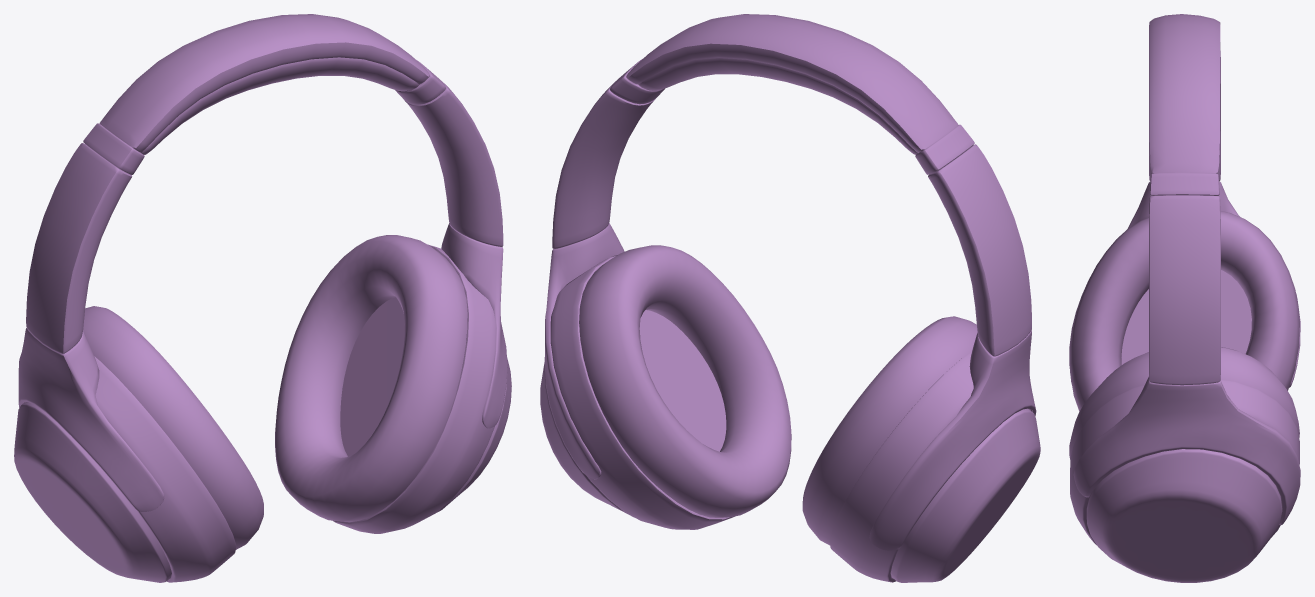
Rendered from ThreejsScene (4).glb.
The picture shows the model from 3 angles, left to right: view 1: azimuth 30°, elevation 25°; view 2: azimuth 150°, elevation 25°; view 3: azimuth 270°, elevation 25°; orthographic projection. The views are drawn at different scales.
Visible parts, largest first — view 1: уховнешнее001; view 2: уховнешнее001; view 3: уховнешнее001.
Boxes of the visible parts, x1,y1,x2,y2 form: уховнешнее001: (14, 14, 511, 582); уховнешнее001: (540, 14, 1040, 582); уховнешнее001: (1069, 14, 1300, 582).
Bounding box in the file's own units: 4.3 × 4.62 × 1.99.
